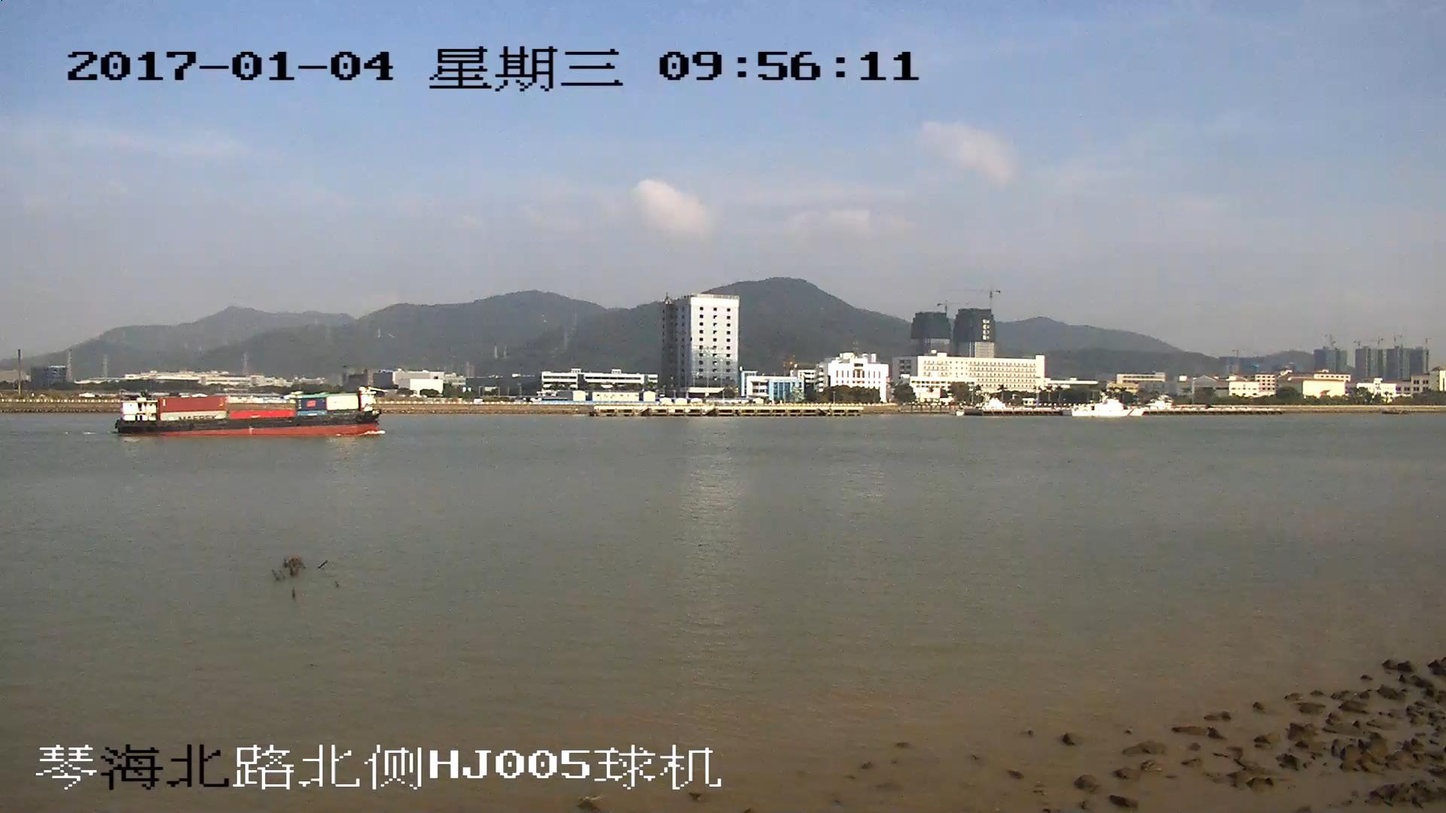container ship: (110, 387, 381, 435)
